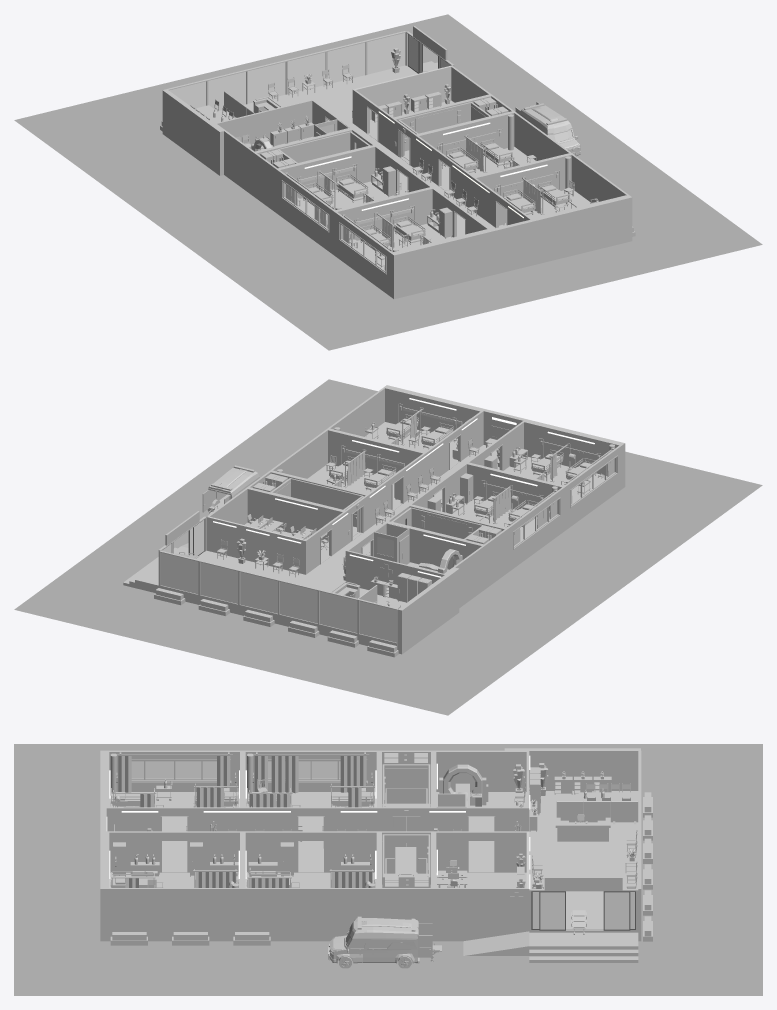
Rendered from Hospital_Completo.fbx.
3 renders of one model, top to bottom at view 1: azimuth 30°, elevation 25°; view 2: azimuth 150°, elevation 25°; view 3: azimuth 270°, elevation 25°, orthographic. The views are drawn at different scales.
Parts seen in each view (by area): view 1: Ground Plane_0, Hospital Outer Wall 01_435, Hospital Outer Wall 01 (1)_434, Hospital Outer Wall 01 (3)_420, Hospital Room Right Wall 01 Blue_84, Hospital Room Right Wall 01 Blue_135, Hospital Room Left Wall 02 Blue_263, Hospital Room Right Wall 02 Blue_326, Hospital Corridor 01 (7)_437, Hospital Room Left Wall 01 Blue_234, Hospital Room Left Wall 01 Blue_185, Hospital Outer Wall 01 (2)_433 (+29 smaller); view 2: Ground Plane_0, Hospital Room Left Wall 02 Blue_263, Hospital Outer Wall 01 (3)_420, Hospital Room Right Wall 02 Blue_264, Hospital Room Left Wall 01 Blue_128, Hospital Room Right Wall 01 Blue_189, Hospital Room Right Wall 01 Blue_238, Hospital Room Left Wall 01 Blue_74, Hospital Room Right Wall 02 Blue_326, Hospital Corridor 01 (6)_438, Hospital Room Front Wall 01 Blue_192, Hospital Room Front Wall 01 Blue_241 (+29 smaller); view 3: Ground Plane_0, Hospital Main Entrance 01_443, Hospital Room Back Wall 01 Blue_188, Hospital Room Back Wall 01 Blue_237, Hospital Outer Wall 02 3.5m_261, Hospital Corridor 01 (6)_438, Hospital Room Front Wall 01 Blue_241, Hospital Outer Wall 01 (3)_420, Ambulance Hospital 02_28, Hospital Corridor 01 (7)_437, Hospital Room Front Wall 01 Blue_192, Hospital Room Front Wall 01 Blue_87 (+39 smaller).
Boxes of the visible parts, box(x1,y1,x2,y2) form: Ground Plane_0: box(14, 14, 762, 350); Hospital Outer Wall 01_435: box(391, 229, 493, 299); Hospital Outer Wall 01 (1)_434: box(531, 195, 632, 265); Hospital Outer Wall 01 (3)_420: box(162, 89, 223, 175); Hospital Room Right Wall 01 Blue_84: box(278, 145, 375, 198); Hospital Room Right Wall 01 Blue_135: box(335, 187, 432, 240); Hospital Room Left Wall 02 Blue_263: box(353, 65, 451, 119); Hospital Room Right Wall 02 Blue_326: box(214, 99, 312, 147); Hospital Corridor 01 (7)_437: box(218, 65, 417, 119); Hospital Room Left Wall 01 Blue_234: box(416, 111, 514, 155); Hospital Room Left Wall 01 Blue_185: box(474, 153, 571, 197); Hospital Outer Wall 01 (2)_433: box(491, 219, 532, 274); Ground Plane_0: box(14, 379, 762, 715); Hospital Room Left Wall 02 Blue_263: box(206, 516, 305, 574); Hospital Outer Wall 01 (3)_420: box(398, 567, 459, 654); Hospital Room Right Wall 02 Blue_264: box(247, 487, 345, 540); Hospital Room Left Wall 01 Blue_128: box(523, 421, 621, 475); Hospital Room Right Wall 01 Blue_189: box(384, 387, 483, 438); Hospital Room Right Wall 01 Blue_238: box(327, 429, 425, 474); Hospital Room Left Wall 01 Blue_74: box(466, 463, 563, 511); Hospital Room Right Wall 02 Blue_326: box(345, 550, 444, 589); Hospital Corridor 01 (6)_438: box(196, 550, 406, 607); Hospital Room Front Wall 01 Blue_192: box(425, 411, 483, 484); Hospital Room Front Wall 01 Blue_241: box(368, 453, 426, 528); Ground Plane_0: box(14, 744, 762, 995); Hospital Main Entrance 01_443: box(463, 877, 638, 962); Hospital Room Back Wall 01 Blue_188: box(106, 888, 242, 928); Hospital Room Back Wall 01 Blue_237: box(243, 888, 379, 928); Hospital Outer Wall 02 3.5m_261: box(433, 888, 529, 928); Hospital Corridor 01 (6)_438: box(529, 791, 583, 929); Hospital Room Front Wall 01 Blue_241: box(243, 831, 378, 872); Hospital Outer Wall 01 (3)_420: box(504, 748, 640, 790); Ambulance Hospital 02_28: box(328, 916, 419, 963); Hospital Corridor 01 (7)_437: box(583, 791, 638, 929); Hospital Room Front Wall 01 Blue_192: box(107, 831, 242, 872); Hospital Room Front Wall 01 Blue_87: box(243, 807, 379, 848).
Size of the model in its own units: 2186 by 264 by 2747.
Materials: 6 (1 with a texture image).
